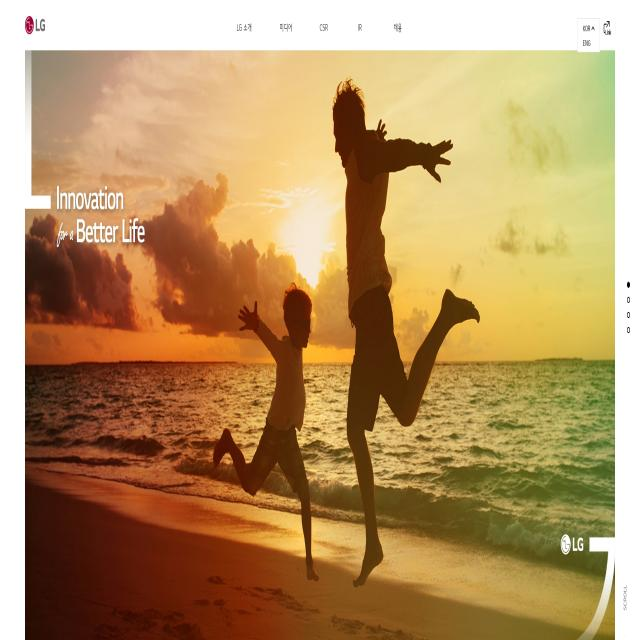menu-bar: (230, 10, 404, 42)
